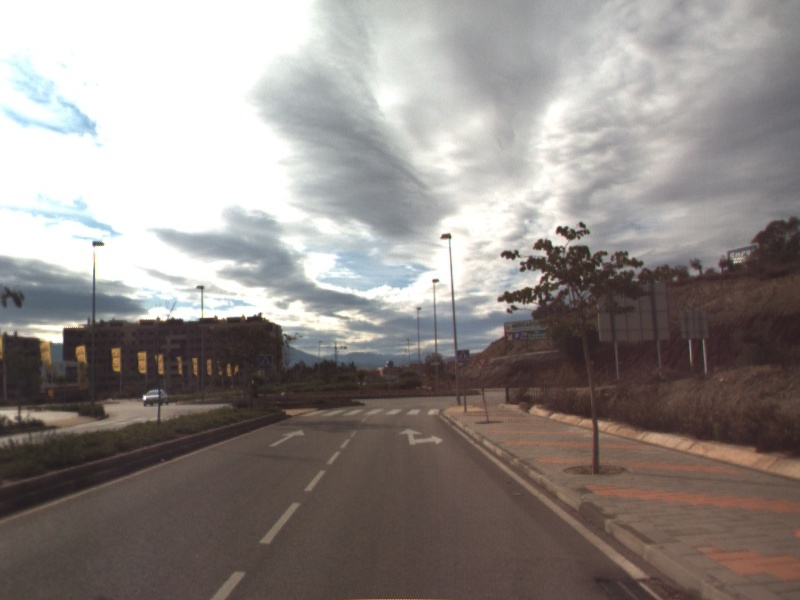STRAIGHT: (267, 427, 306, 449)
STRAIGHT_RIGHT: (398, 426, 446, 447)
